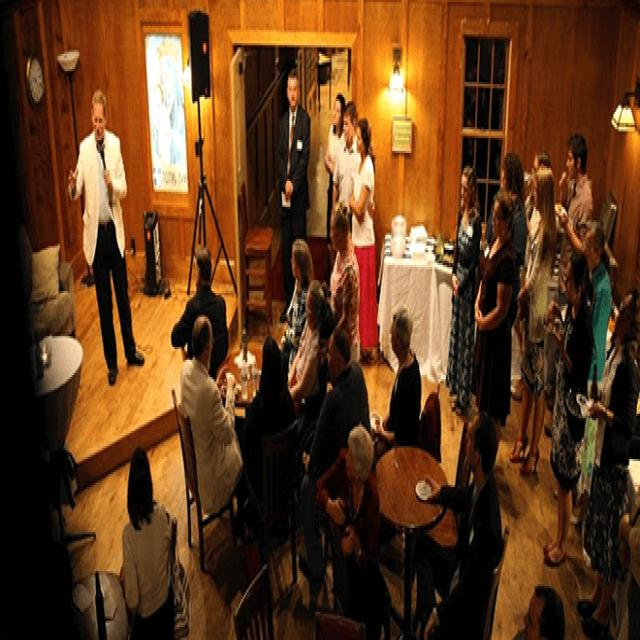Person: (463, 404, 499, 484), (519, 584, 568, 639), (345, 415, 374, 485), (127, 455, 156, 522), (614, 282, 640, 356), (499, 152, 525, 208), (324, 328, 354, 375), (490, 190, 517, 242), (388, 303, 413, 358), (327, 206, 353, 257), (304, 275, 325, 333), (566, 133, 590, 181), (288, 242, 312, 287), (192, 316, 214, 365), (564, 258, 586, 306), (584, 222, 606, 268), (89, 92, 108, 143), (531, 148, 552, 194), (532, 169, 555, 209), (459, 165, 478, 211), (193, 247, 214, 286), (340, 104, 360, 144), (355, 120, 373, 157), (287, 72, 300, 106), (330, 97, 344, 124)
